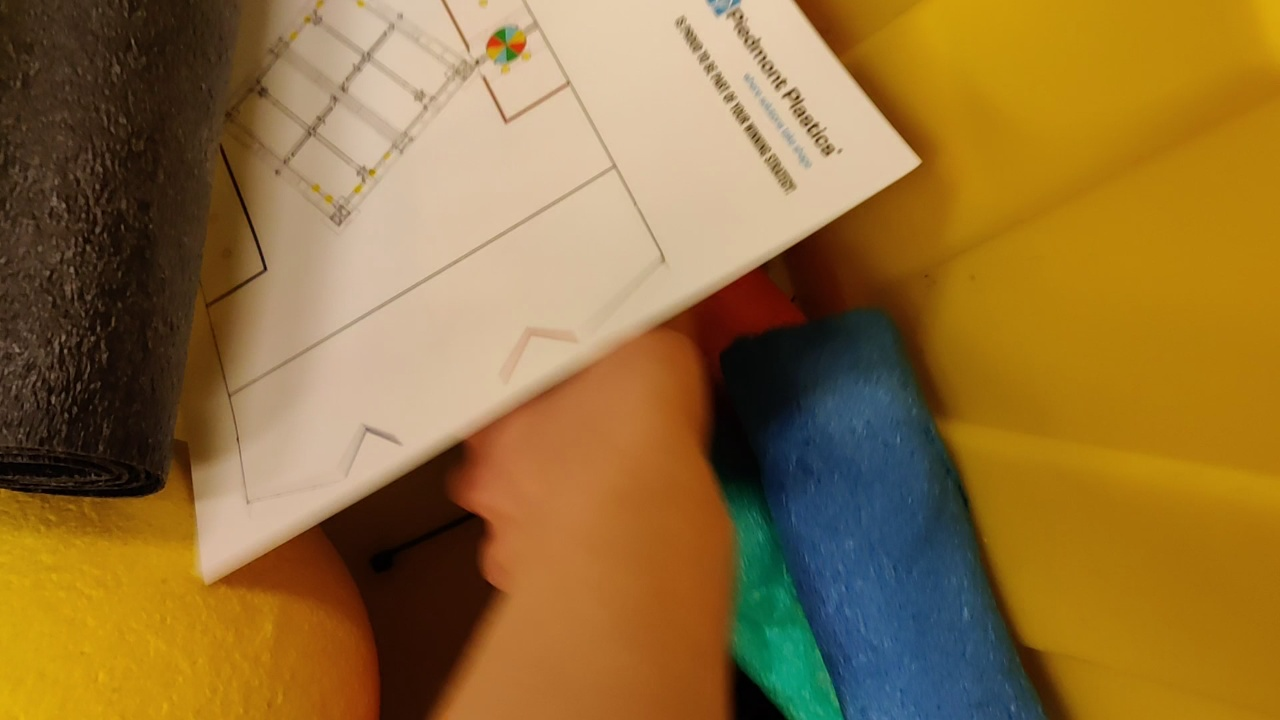Ball: (1, 450, 381, 718)
